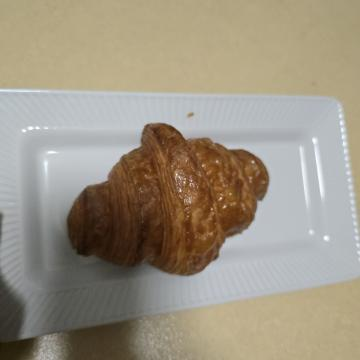croissant: (120, 86, 286, 303)
